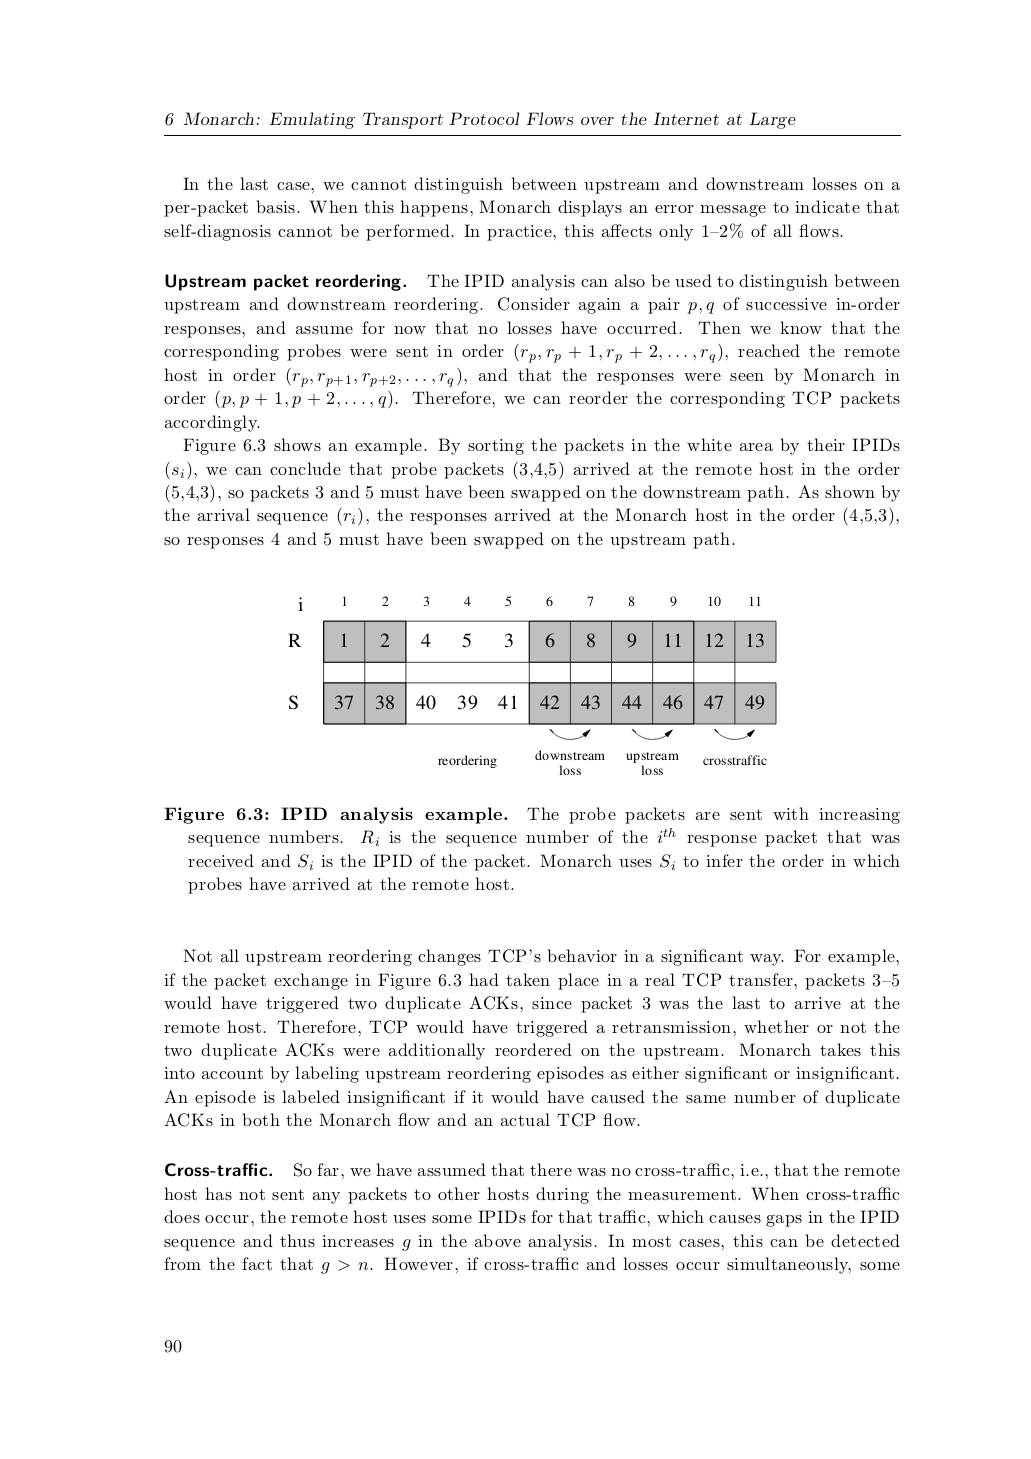figure: (288, 596, 775, 775)
